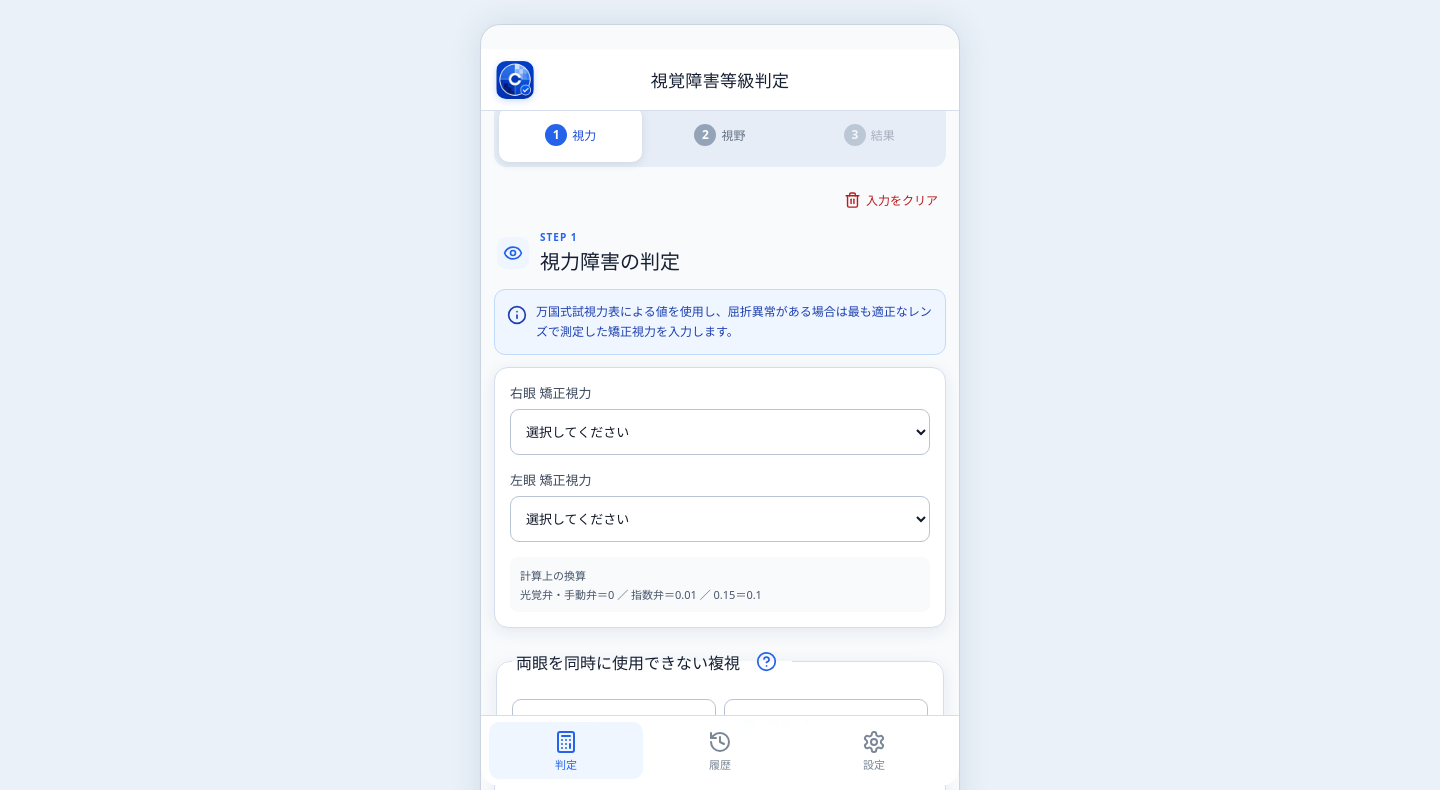
Test: 判定フロー › 複視ヘルプを閉じても入力値を保持する
The image size is (1440, 790).
Select "0.1" in the dropdown labelled "右眼 矯正視力". click: (720, 432)
box: [510,409,930,455]
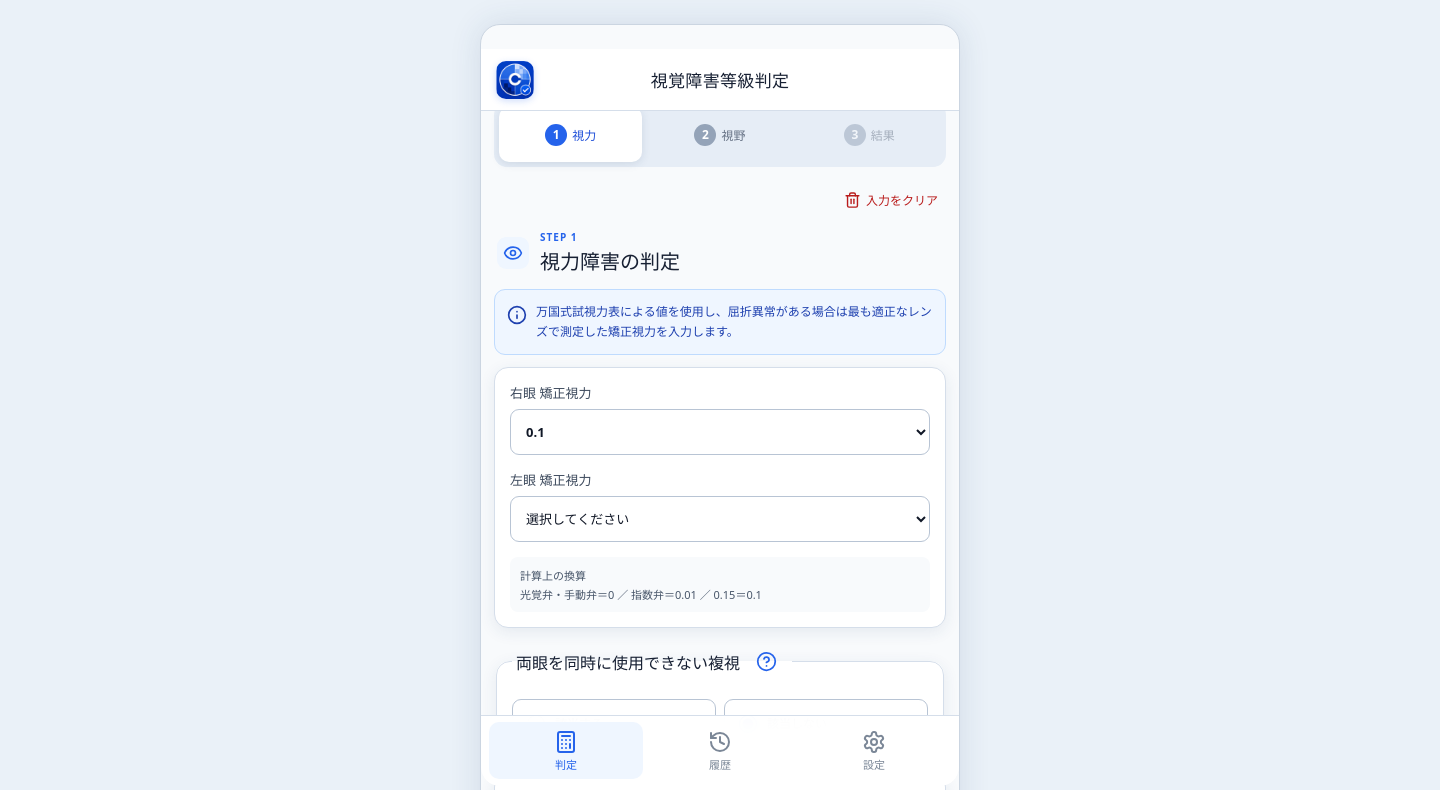
Select "0.03" in the dropdown labelled "左眼 矯正視力". click: (720, 519)
box: [510,496,930,542]
(page scrolled)
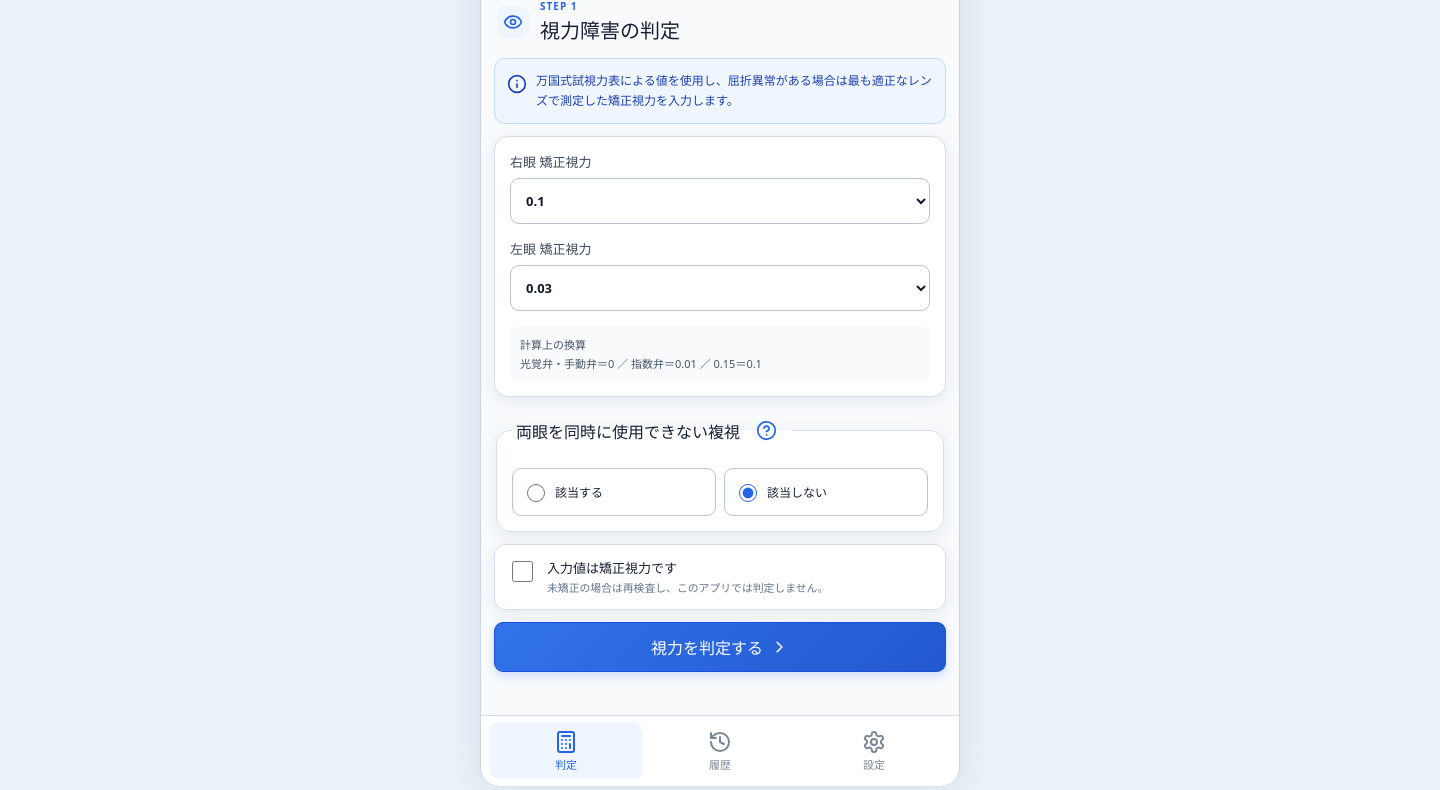
Click the checkbox labelled "入力値は矯正視力です 未矯正の場合は再検査し、このアプリでは判定しません。". click: (522, 571)
box: [512,561,533,582]
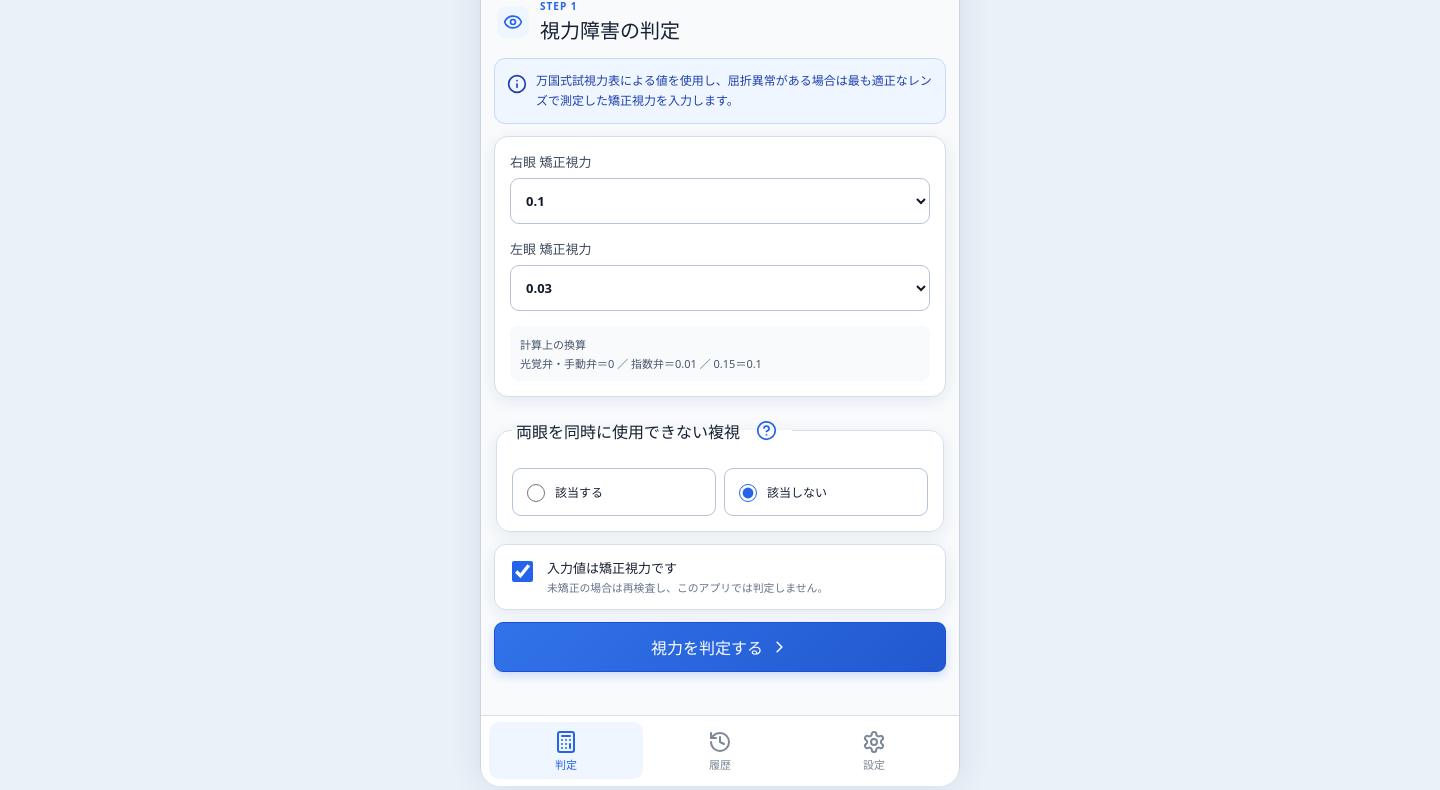
Click the button named "複視に関する説明を開く". click: (766, 431)
box: [744,409,788,453]
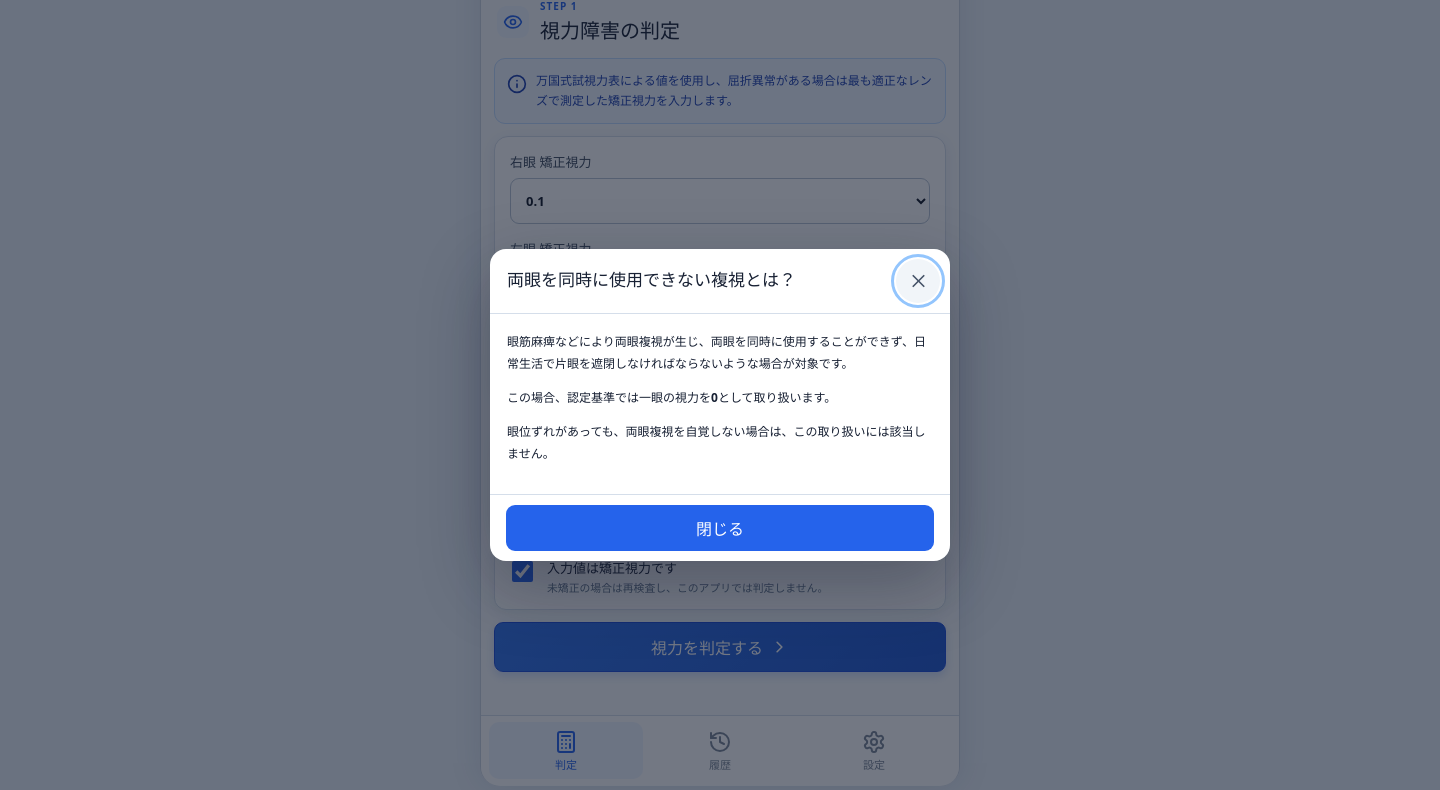
Expected: the heading "両眼を同時に使用できない複視とは？" is shown, [507,268,796,291]
Press Escape
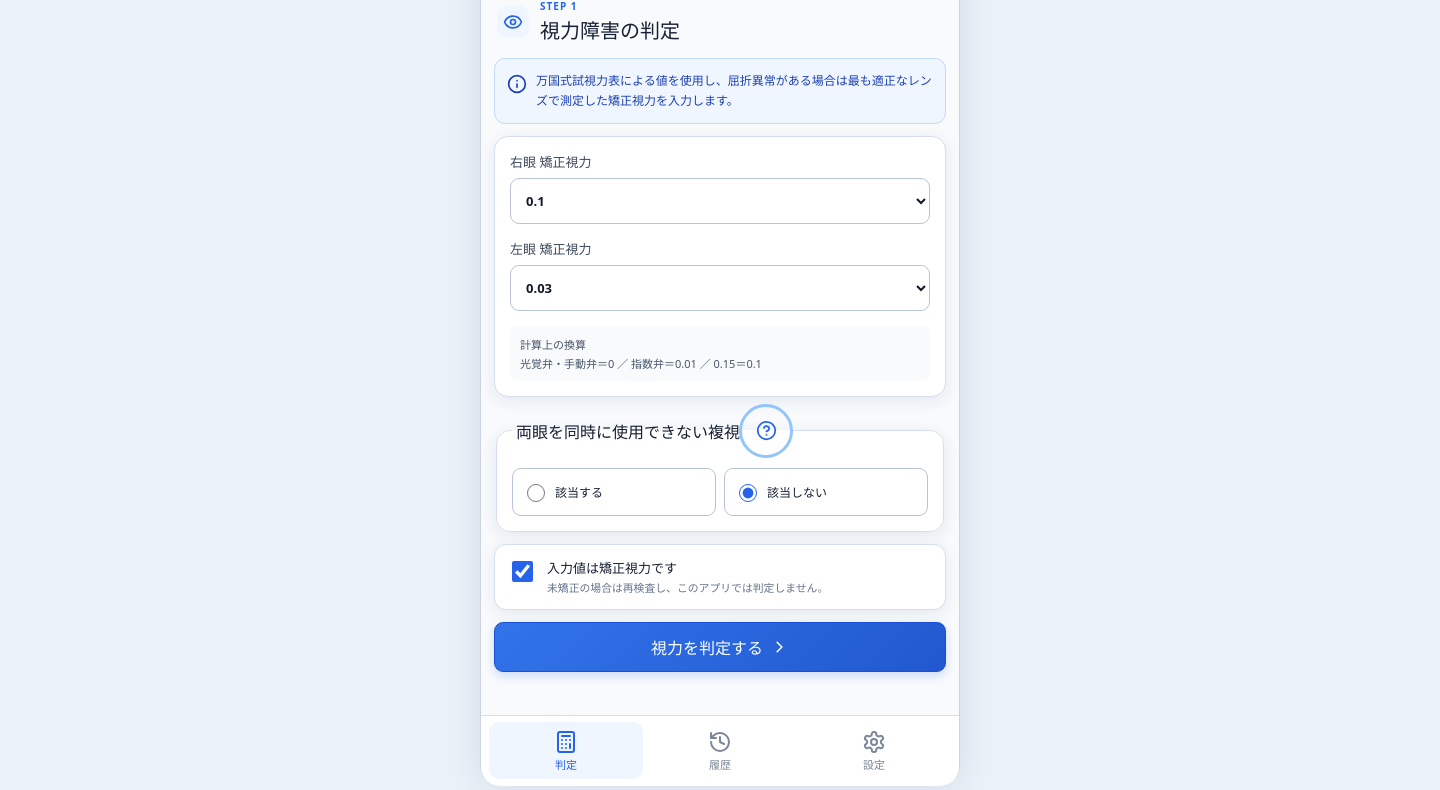
Expected: the dialog is gone
